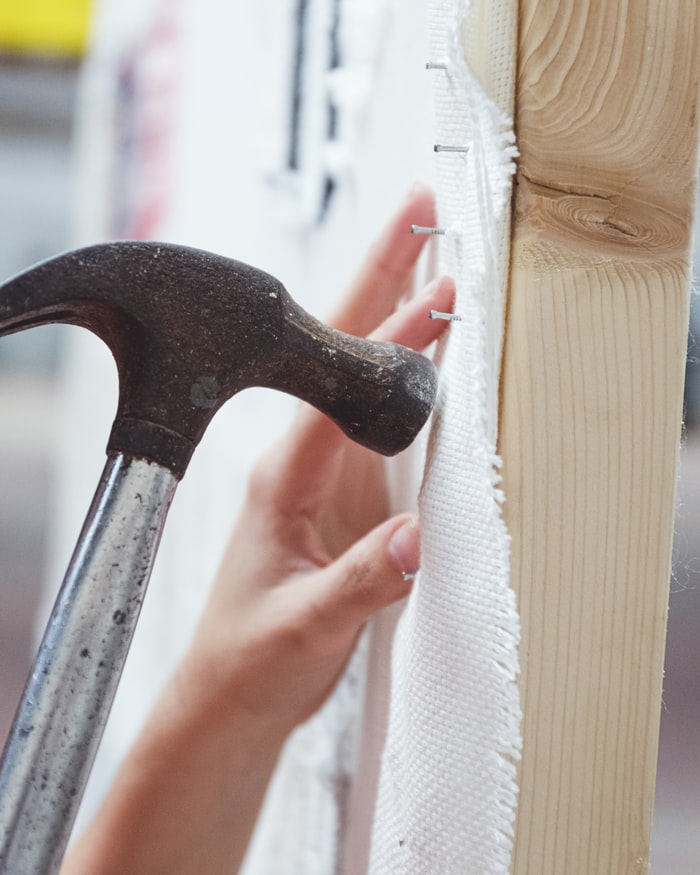hammer: (1, 87, 454, 875)
